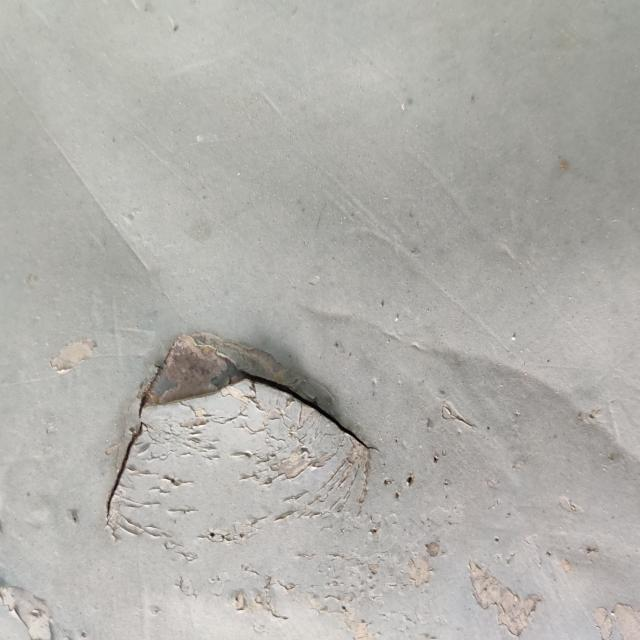crack: (79, 94, 326, 388)
